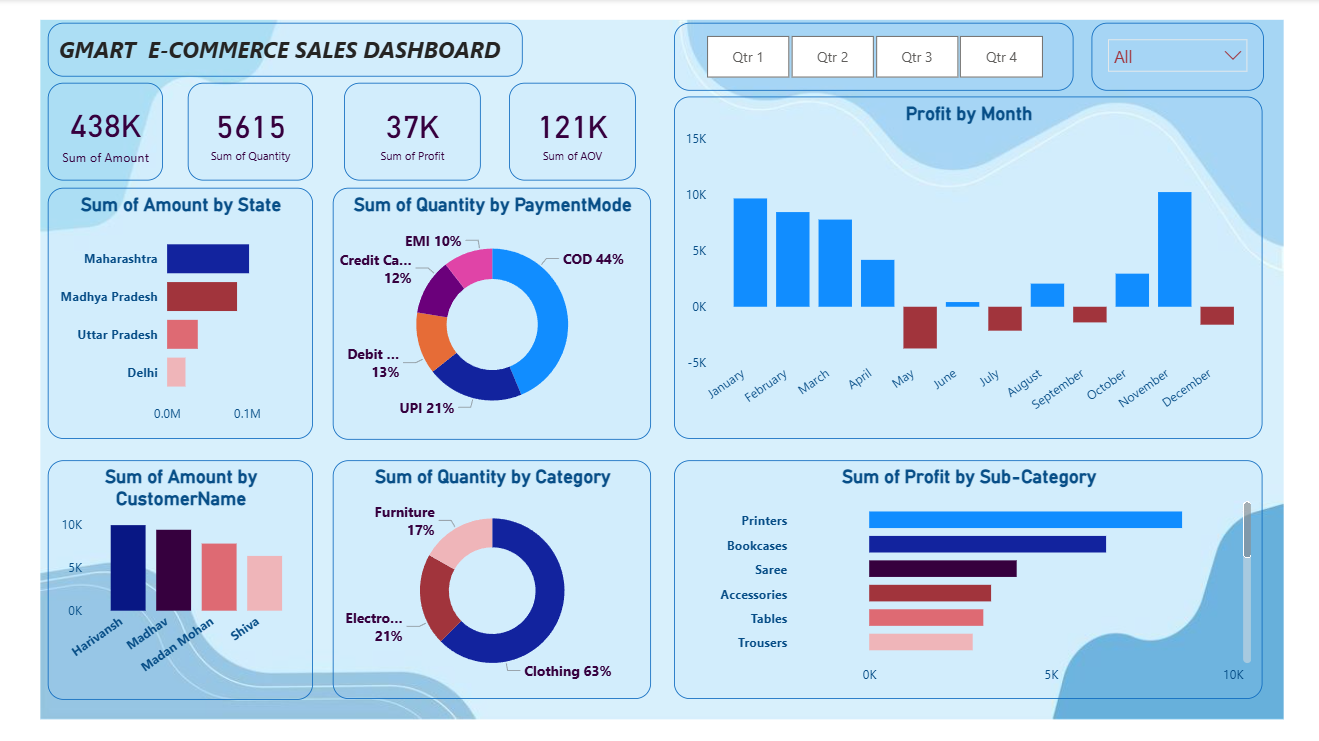

This screenshot's page, from the dashboard's own definition file:
{"tool":"powerbi","page":{"name":"Page 1","canvas":[1280,720],"ordinal":0},"visuals":[{"type":"textbox","box":[46.7,23.3,458.3,52.1],"z":0},{"type":"columnChart","title":"Profit by Month","fields":{"Category":["Orders.Order Date.Variation.Date Hierarchy.Month"],"Y":["Details.Profit"]},"box":[651.8,94.7,568.1,330.7],"z":1000},{"type":"barChart","fields":{"Category":["Details.Sub-Category"],"Y":["Details.Profit"]},"box":[651.8,444.6,568.1,230.5],"z":2000},{"type":"donutChart","fields":{"Y":["Details.Quantity"],"Category":["Details.PaymentMode"]},"box":[322.5,182.5,307.4,242.9],"z":3000},{"type":"donutChart","fields":{"Category":["Details.Category"],"Y":["Details.Quantity"]},"box":[322.5,444.6,307.4,230.5],"z":4000},{"type":"card","fields":{"Values":["Details.Amount"]},"box":[46.7,81,111.1,94.7],"z":5000},{"type":"card","fields":{"Values":["Details.Quantity"]},"box":[182.5,81,120.8,94.7],"z":6000},{"type":"card","fields":{"Values":["Details.Profit"]},"box":[333.4,81,131.7,94.7],"z":7000},{"type":"card","fields":{"Values":["Details.AOV"]},"box":[492.6,81,122.1,94.7],"z":8000},{"type":"barChart","fields":{"Category":["Orders.State"],"Y":["Details.Amount"]},"box":[47.1,182.2,255.8,242.5],"z":9000},{"type":"columnChart","fields":{"Category":["Orders.CustomerName"],"Y":["Details.Amount"]},"box":[47,445,256,231],"z":10000},{"type":"slicer","fields":{"Values":["Orders.Order Date.Variation.Date Hierarchy.Quarter"]},"box":[651.8,23.3,385.6,65.9],"z":10001},{"type":"slicer","fields":{"Values":["Orders.State"]},"box":[1053.9,23.3,166,65.9],"z":10002}]}

Visuals, with their boxes in screenshot pixels (x1, y1, x2, y2), scaled from the page's 1280x720 canvas onto the 1319x741 screenshot:
textbox: crop(48, 24, 520, 78)
"Profit by Month" columnChart: crop(672, 97, 1257, 438)
barChart - Details.Sub-Category x Details.Profit: crop(672, 458, 1257, 695)
donutChart - Details.Quantity x Details.PaymentMode: crop(332, 188, 649, 438)
donutChart - Details.Category x Details.Quantity: crop(332, 458, 649, 695)
card - Details.Amount: crop(48, 83, 163, 181)
card - Details.Quantity: crop(188, 83, 313, 181)
card - Details.Profit: crop(344, 83, 479, 181)
card - Details.AOV: crop(508, 83, 633, 181)
barChart - Orders.State x Details.Amount: crop(49, 188, 312, 437)
columnChart - Orders.CustomerName x Details.Amount: crop(48, 458, 312, 696)
slicer - Orders.Order Date.Variation.Date Hierarchy.Quarter: crop(672, 24, 1069, 92)
slicer - Orders.State: crop(1086, 24, 1257, 92)
